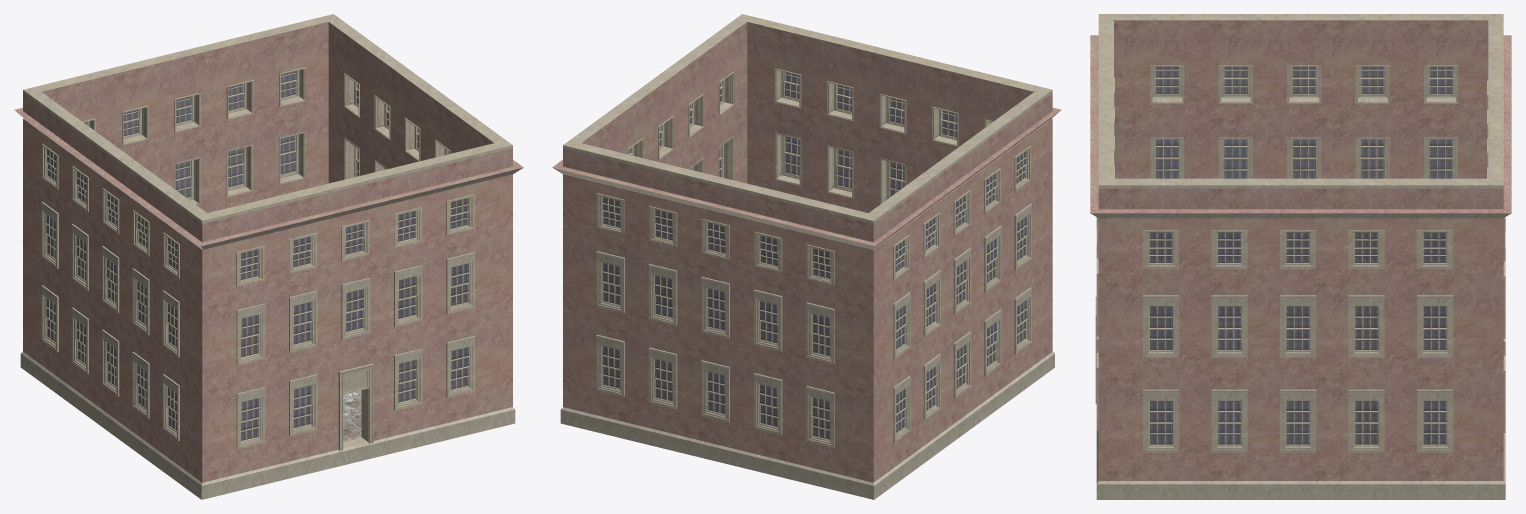
The model's file is REDOO2.fbx.
The picture shows the model from 3 angles, left to right: view 1: azimuth 30°, elevation 25°; view 2: azimuth 150°, elevation 25°; view 3: azimuth 270°, elevation 25°; orthographic projection. The views are drawn at different scales.
Parts seen in each view (by area): view 1: Plane.007, Plane.000; view 2: Plane.007; view 3: Plane.007.
Part boxes in pixels (x1,y1,x2,y2): Plane.007: [14, 14, 523, 499]; Plane.000: [338, 363, 373, 450]; Plane.007: [552, 14, 1061, 499]; Plane.007: [1090, 14, 1511, 499].
Size of the model in its own units: 811 by 667 by 811.
